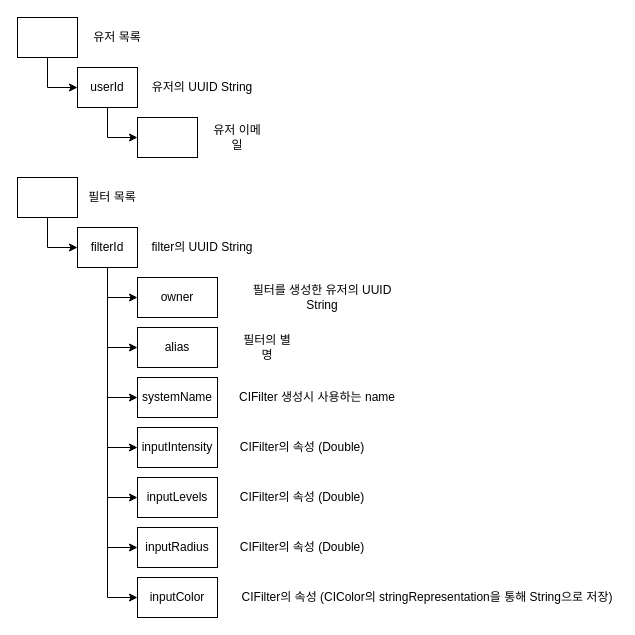
Image size: 635x635. Some labels were removed from this diagram. The box of each missing label's shape, as (x1, y1, x2, y2) in pixels:
email: (136, 116, 198, 158)
filters: (16, 176, 78, 218)
users: (16, 16, 78, 58)
